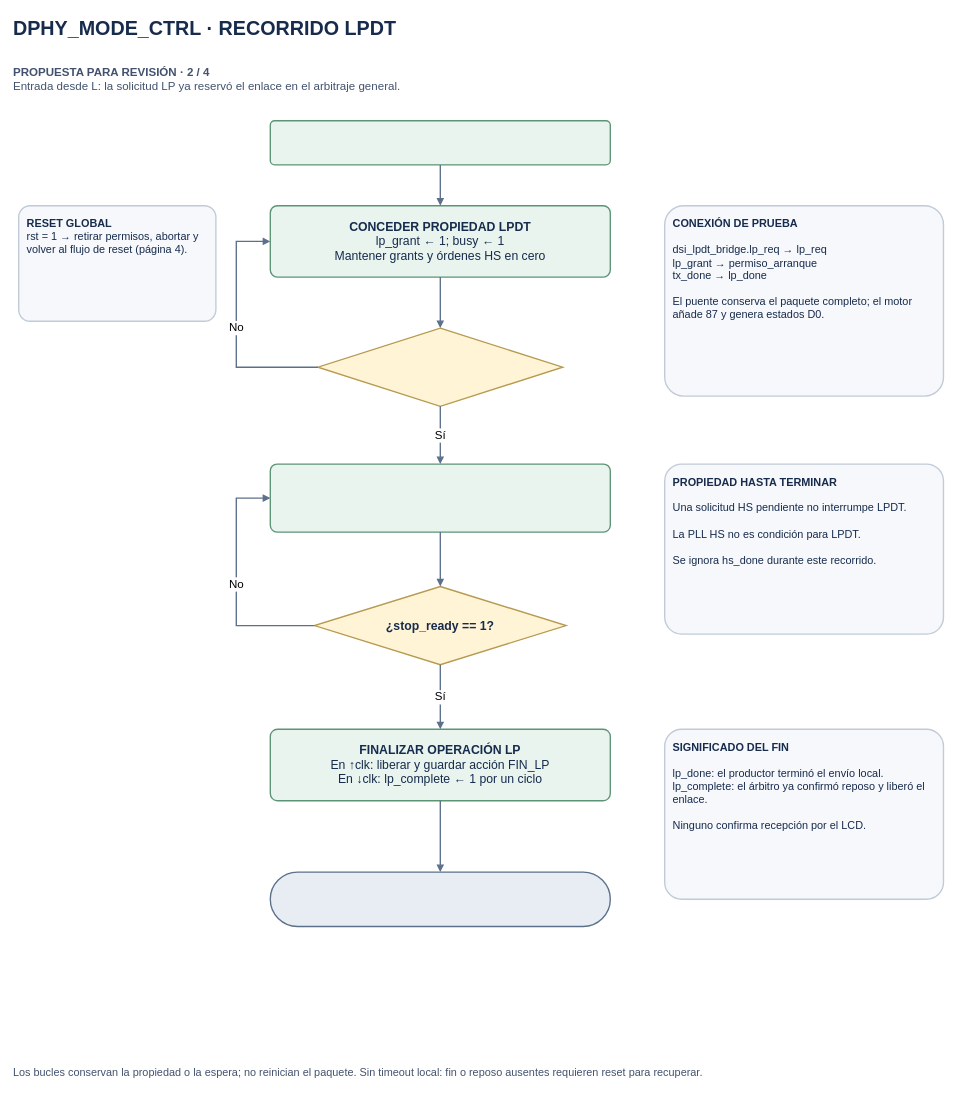
The diagram is 962 pixels wide and 1108 high, and some of its shapes have lost their labels. The centre of each missing label's shape, as x and y in pixels:
L · RESERVA LP ACEPTADA: the point at 440,142
R · VOLVER A ESPERAR ENLACE LIBRE Página 1: the point at 440,899
RETIRAR PERMISO LPDT lp_grant ← 0 Esperar reposo sin admitir otro dueño: the point at 440,497
¿lp_done == 1?: the point at 440,367
